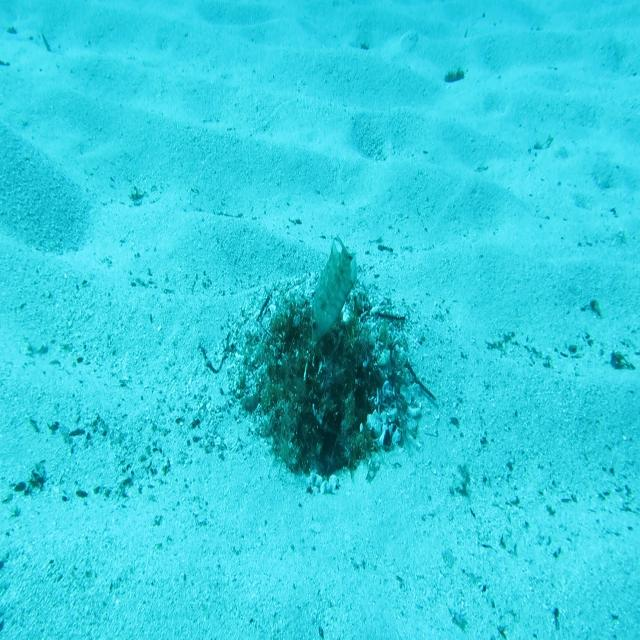INSF: (309, 226, 363, 350)
core_nest: (296, 320, 345, 356)
nest: (222, 278, 431, 508)
vegetation: (442, 62, 467, 82)
